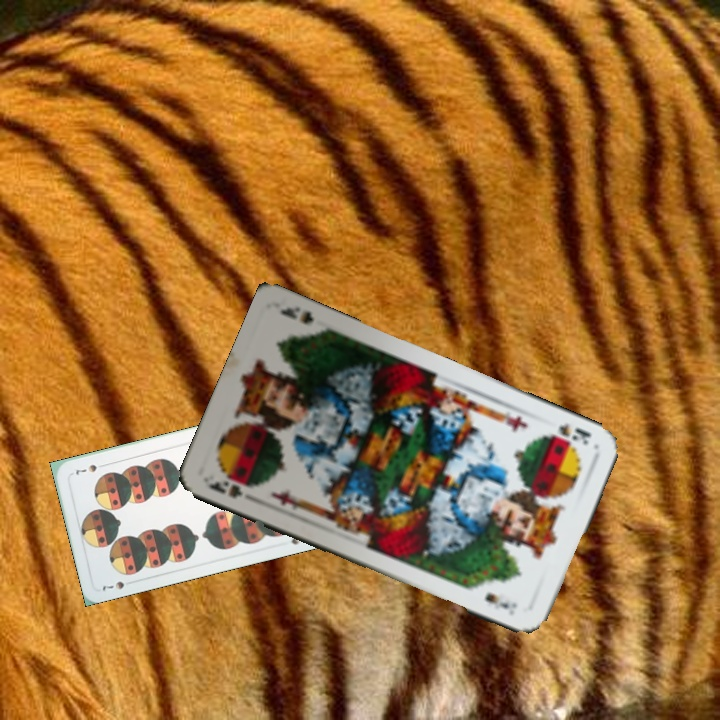S7: (97, 577, 127, 594)
SK: (204, 473, 257, 505), (554, 419, 594, 448)
